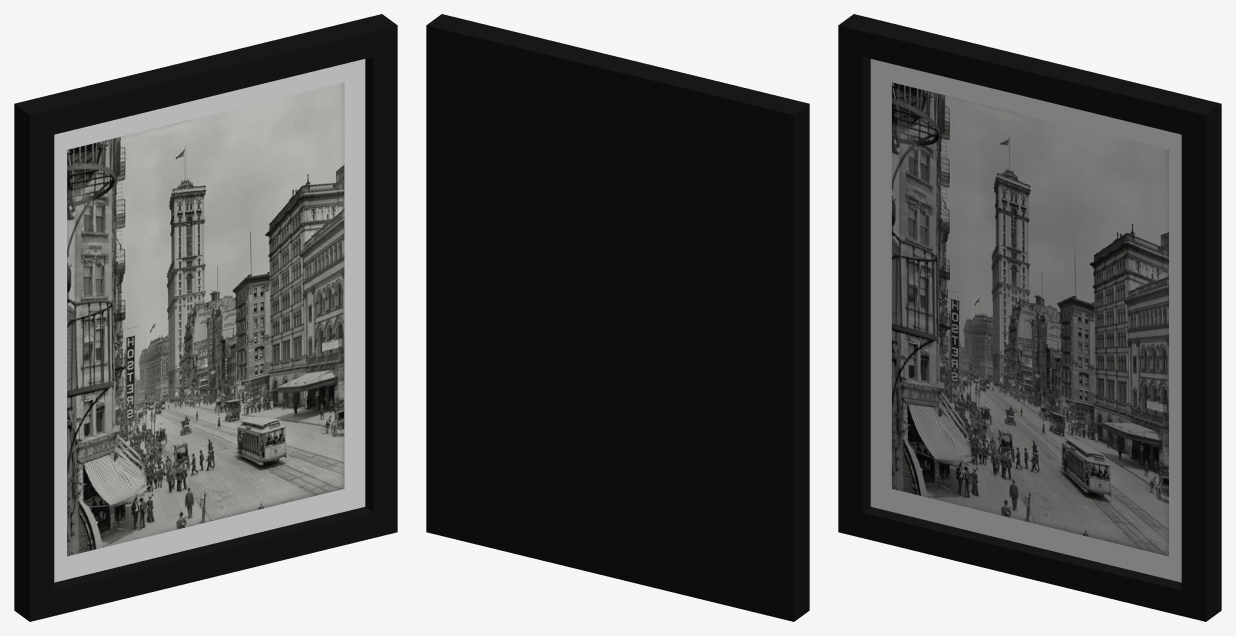
The model's file is Picture 2.FBX.
3 views of the same model, side by side, from view 1: azimuth 30°, elevation 25°; view 2: azimuth 150°, elevation 25°; view 3: azimuth 330°, elevation 25° (orthographic).
Visible parts, largest first — view 1: Picture 2; view 2: Picture 2; view 3: Picture 2.
Boxes of the visible parts, <box> form: Picture 2: <box>14,14,397,621</box>; Picture 2: <box>426,14,809,621</box>; Picture 2: <box>838,14,1221,621</box>.
Size of the model in its own units: 61.86 by 81.47 by 4.53.
1 material, 1 textured.
